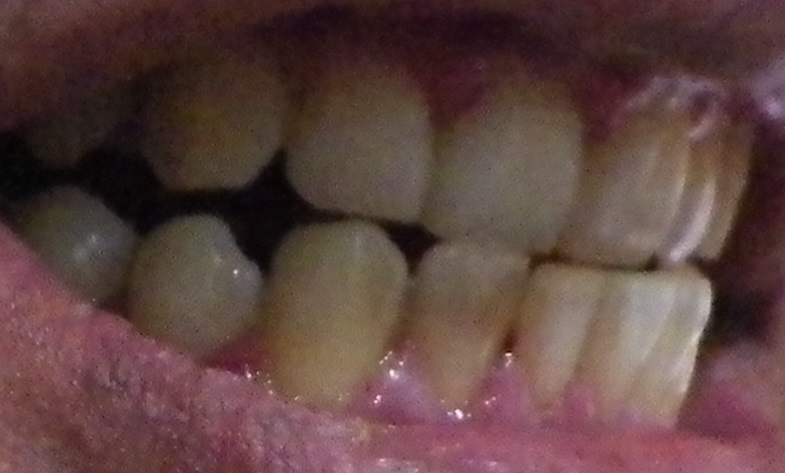boca: (43, 45, 756, 429)
